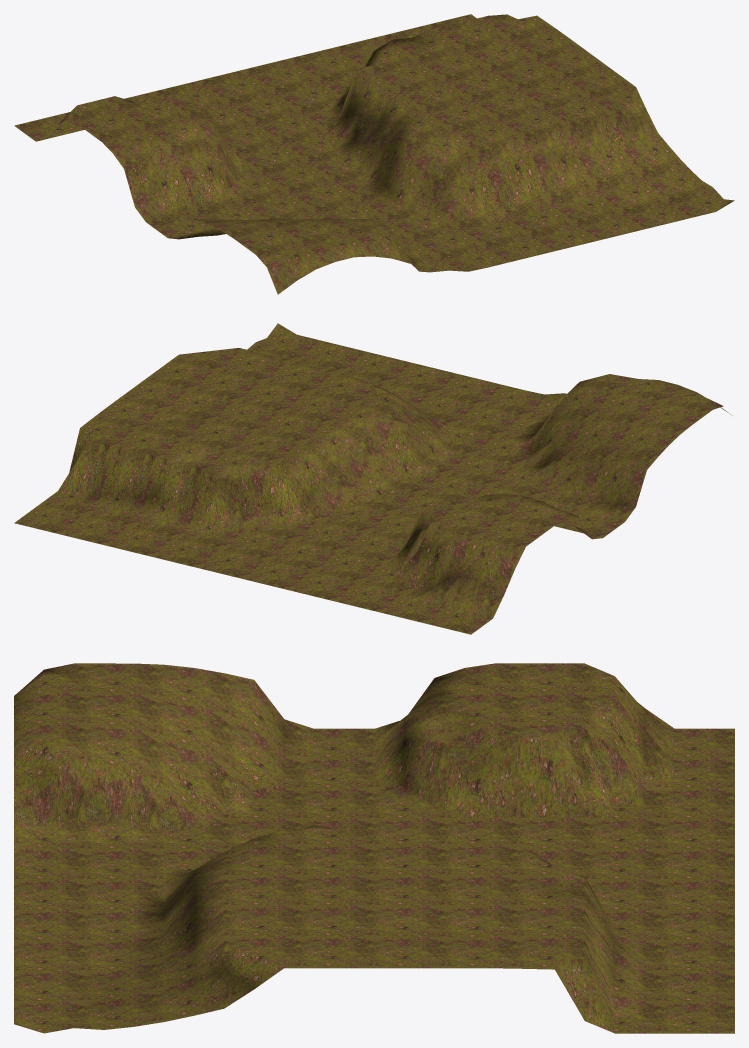
Rendered from Map_export.glb.
3 views of the same model, one above another, from view 1: azimuth 30°, elevation 25°; view 2: azimuth 150°, elevation 25°; view 3: azimuth 270°, elevation 25° (orthographic). The views are drawn at different scales.
Parts seen in each view (by area): view 1: Terrain; view 2: Terrain; view 3: Terrain.
Part boxes in pixels (box(x1,y1,x2,y2)): Terrain: box(14, 14, 734, 294); Terrain: box(14, 323, 732, 634); Terrain: box(14, 663, 734, 1033).
Size of the model in its own units: 50 by 5 by 50.
Materials: 1 (1 with a texture image).
